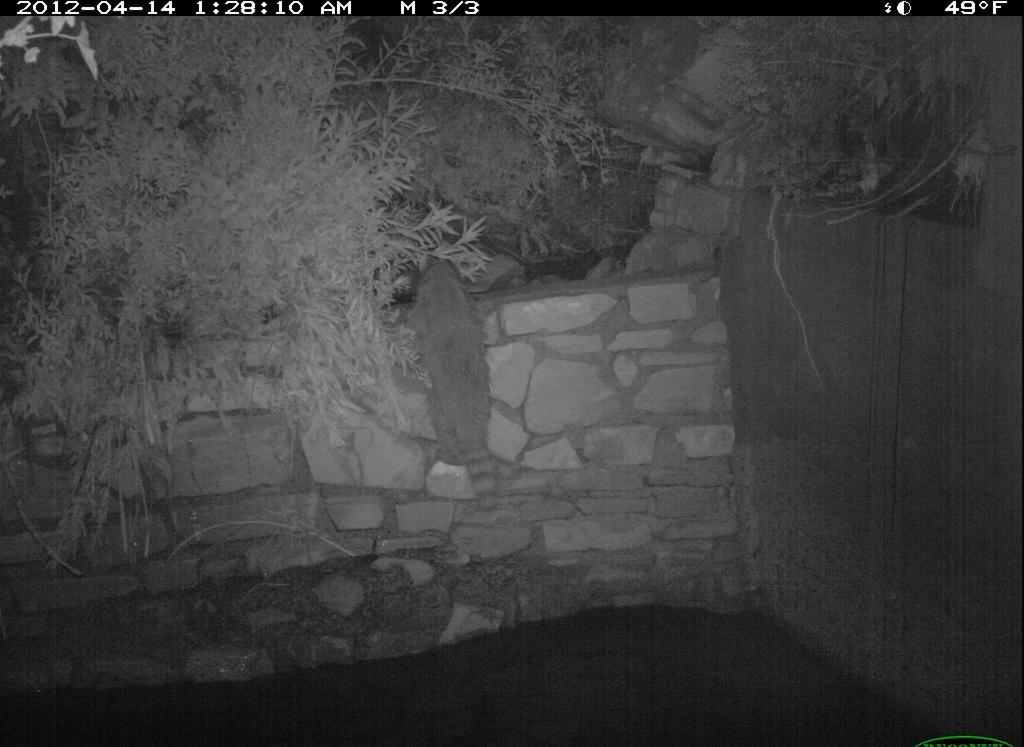raccoon: (401, 251, 513, 518)
